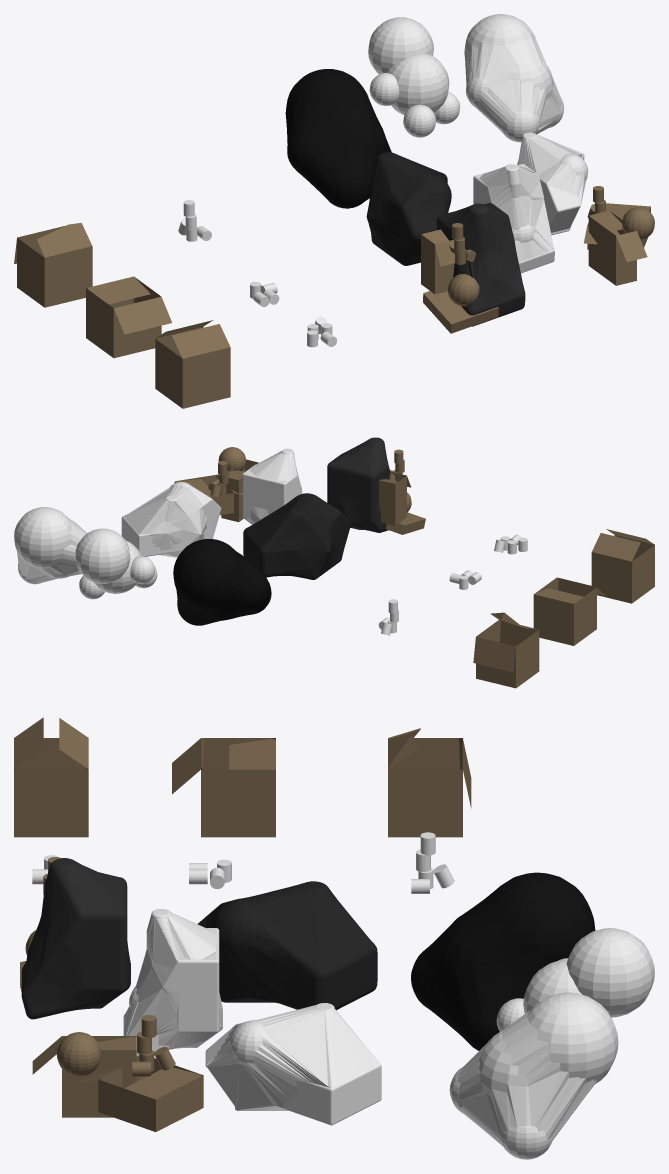
The model's file is garbage.fbx.
The picture shows the model from 3 angles, top to bottom: view 1: azimuth 30°, elevation 25°; view 2: azimuth 150°, elevation 25°; view 3: azimuth 270°, elevation 25°; orthographic projection. The views are drawn at different scales.
Parts seen in each view (by area): view 1: garbage_layer3_b, garbage_layer3_a, combined_obj3, garbage_layer2_b, garbage_layer_b, cardboard_box_a, cardboard_box_c, cardboard_box_b, garbage_layer_a, combined_obj, combined_obj2, garbage_layer2_a; view 2: garbage_layer2_b, garbage_layer3_b, garbage_layer2_a, garbage_layer_b, garbage_layer3_a, combined_obj3, cardboard_box_a, cardboard_box_c, cardboard_box_b, garbage_layer_a, combined_obj2, combined_obj; view 3: garbage_layer3_b, garbage_layer3_a, garbage_layer2_b, garbage_layer2_a, garbage_layer_b, combined_obj2, garbage_layer_a, cardboard_box_b, cardboard_box_a, cardboard_box_c, combined_obj3.
Part boxes in pixels (x1,y1,x2,y2): garbage_layer3_b: (285, 69, 391, 208); garbage_layer3_a: (464, 14, 563, 142); combined_obj3: (368, 17, 460, 137); garbage_layer2_b: (366, 152, 451, 265); garbage_layer_b: (436, 203, 525, 326); cardboard_box_a: (155, 320, 230, 408); cardboard_box_c: (14, 222, 92, 307); cardboard_box_b: (86, 276, 171, 358); garbage_layer_a: (473, 164, 554, 273); combined_obj: (421, 223, 498, 333); combined_obj2: (584, 186, 654, 285); garbage_layer2_a: (517, 132, 588, 235); garbage_layer2_b: (243, 493, 350, 579); garbage_layer3_b: (173, 539, 271, 625); garbage_layer2_a: (121, 482, 221, 557); garbage_layer_b: (327, 437, 390, 532); garbage_layer3_a: (14, 507, 87, 584); combined_obj3: (75, 528, 157, 599); cardboard_box_a: (591, 529, 654, 603); cardboard_box_c: (473, 612, 539, 688); cardboard_box_b: (533, 577, 605, 645); garbage_layer_a: (242, 448, 302, 524); combined_obj2: (174, 447, 258, 522); combined_obj: (379, 449, 425, 534); garbage_layer3_b: (411, 872, 595, 1050); garbage_layer3_a: (449, 992, 618, 1159); garbage_layer2_b: (197, 881, 377, 1010); garbage_layer2_a: (205, 1003, 381, 1125); garbage_layer_b: (21, 858, 130, 1019); combined_obj2: (32, 1015, 203, 1131); garbage_layer_a: (123, 909, 222, 1056); cardboard_box_b: (172, 738, 275, 837); cardboard_box_a: (14, 717, 88, 837); cardboard_box_c: (388, 728, 471, 837); combined_obj3: (496, 928, 654, 1031).
Size of the model in its own units: 2375 by 495 by 1714.
